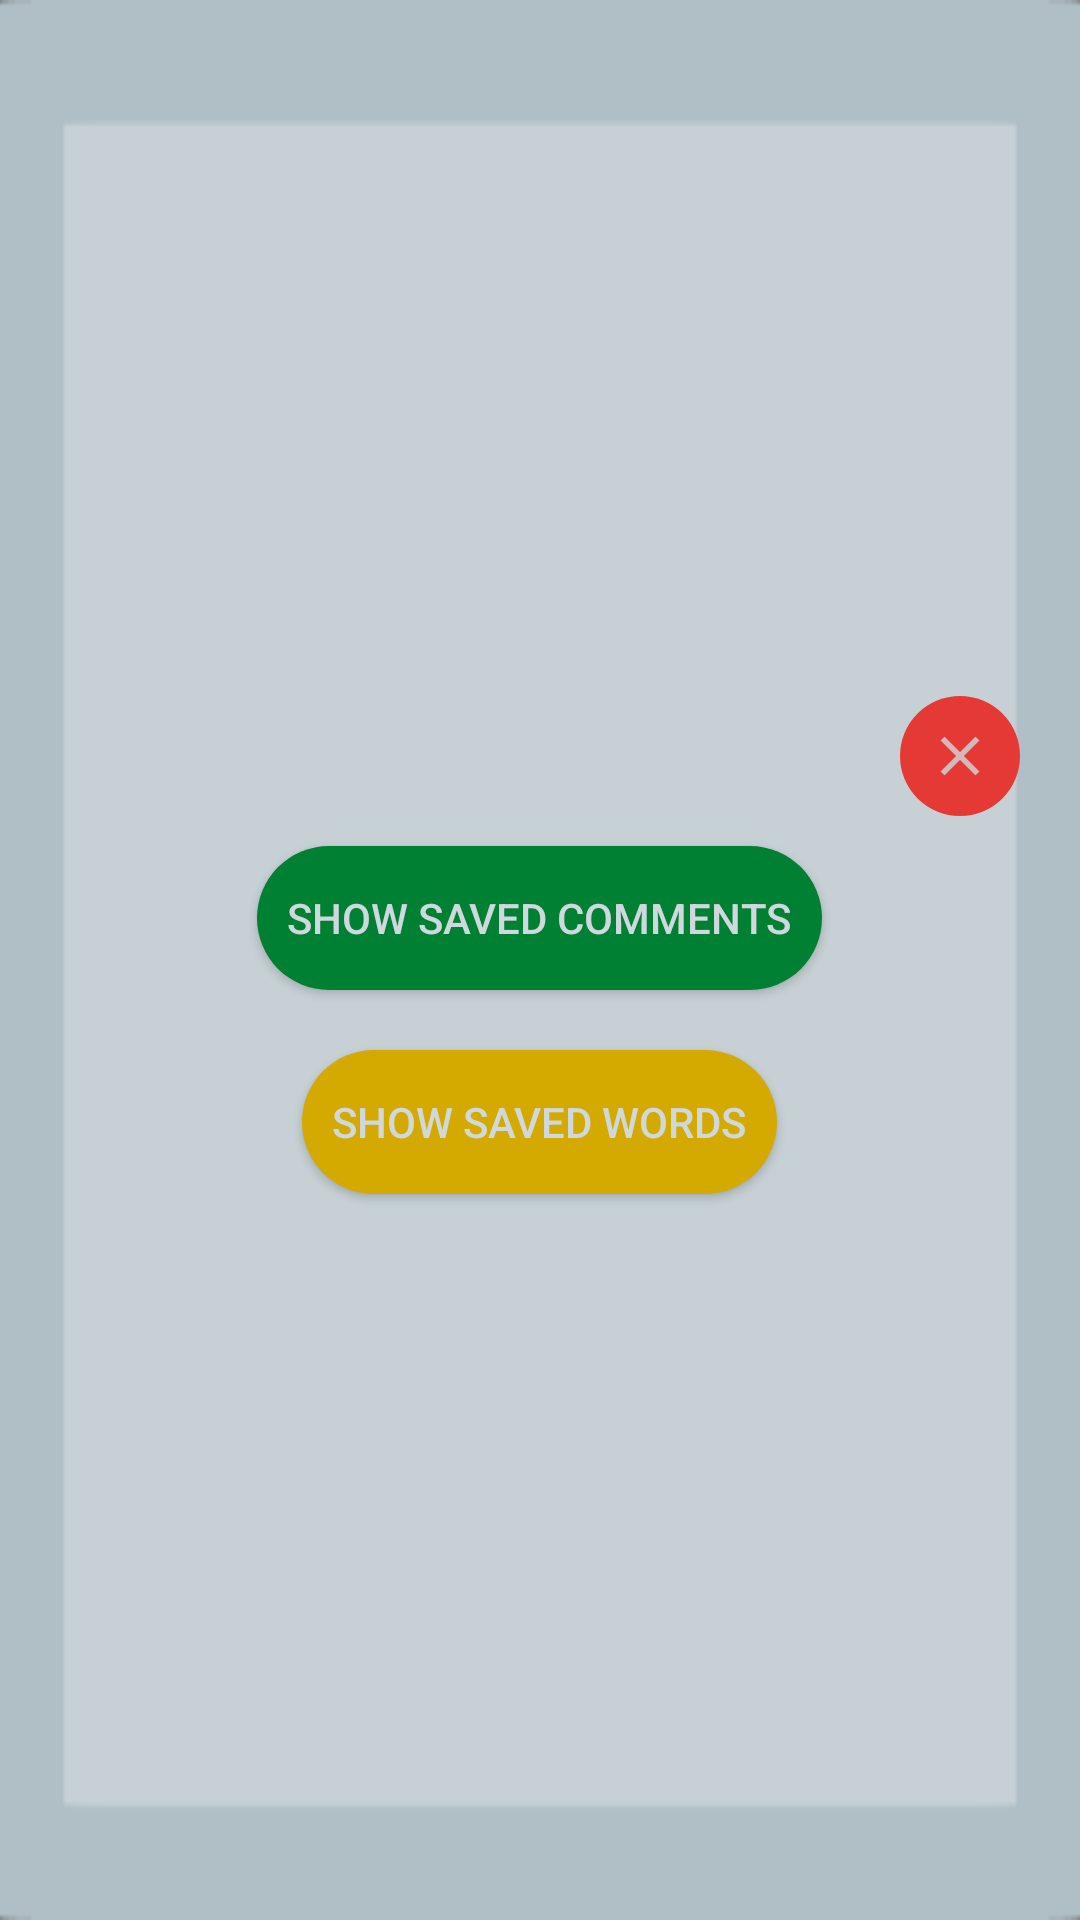

Point at icon controls on the screen. Image size 1080w x 1920h, points as (x,y).
Close: (960,756)
